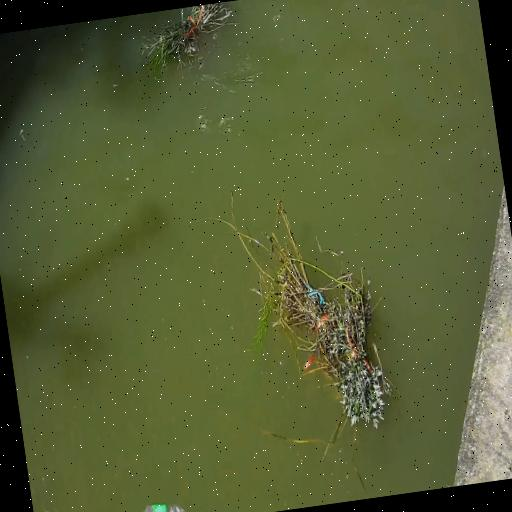plastic: (145, 503, 185, 511)
twig: (214, 200, 392, 426), (144, 2, 233, 74)
